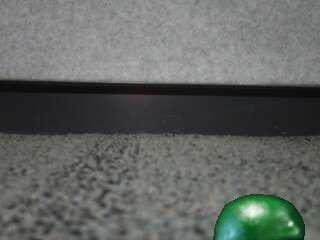Lime: (211, 193, 307, 240)
